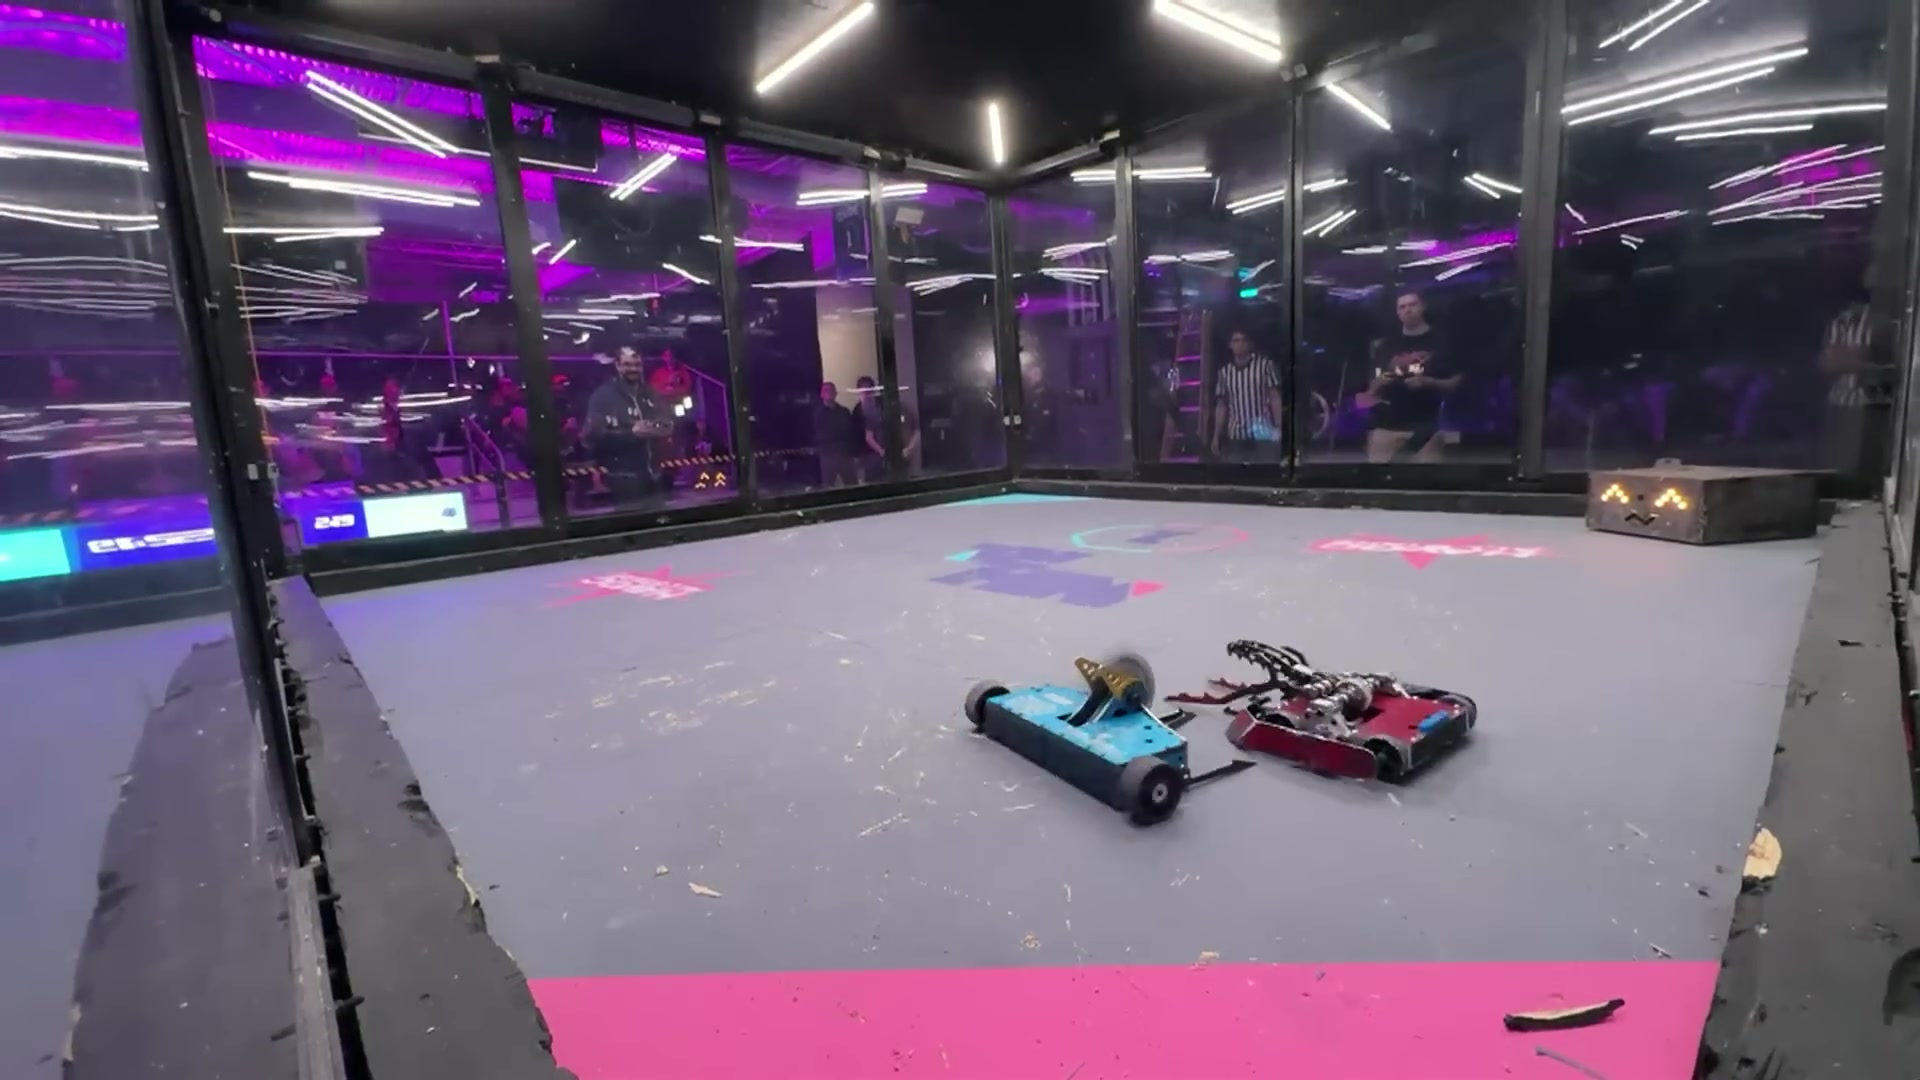combatbot: (964, 650, 1255, 837), (1166, 640, 1485, 800)
debris: (1501, 997, 1629, 1034)
housebot: (1588, 471, 1815, 551)
